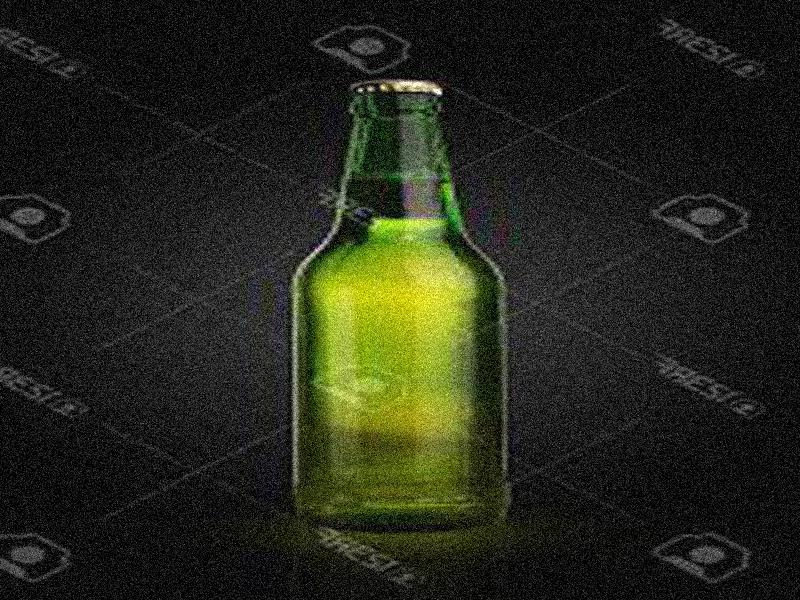Beer: (288, 79, 502, 528)
